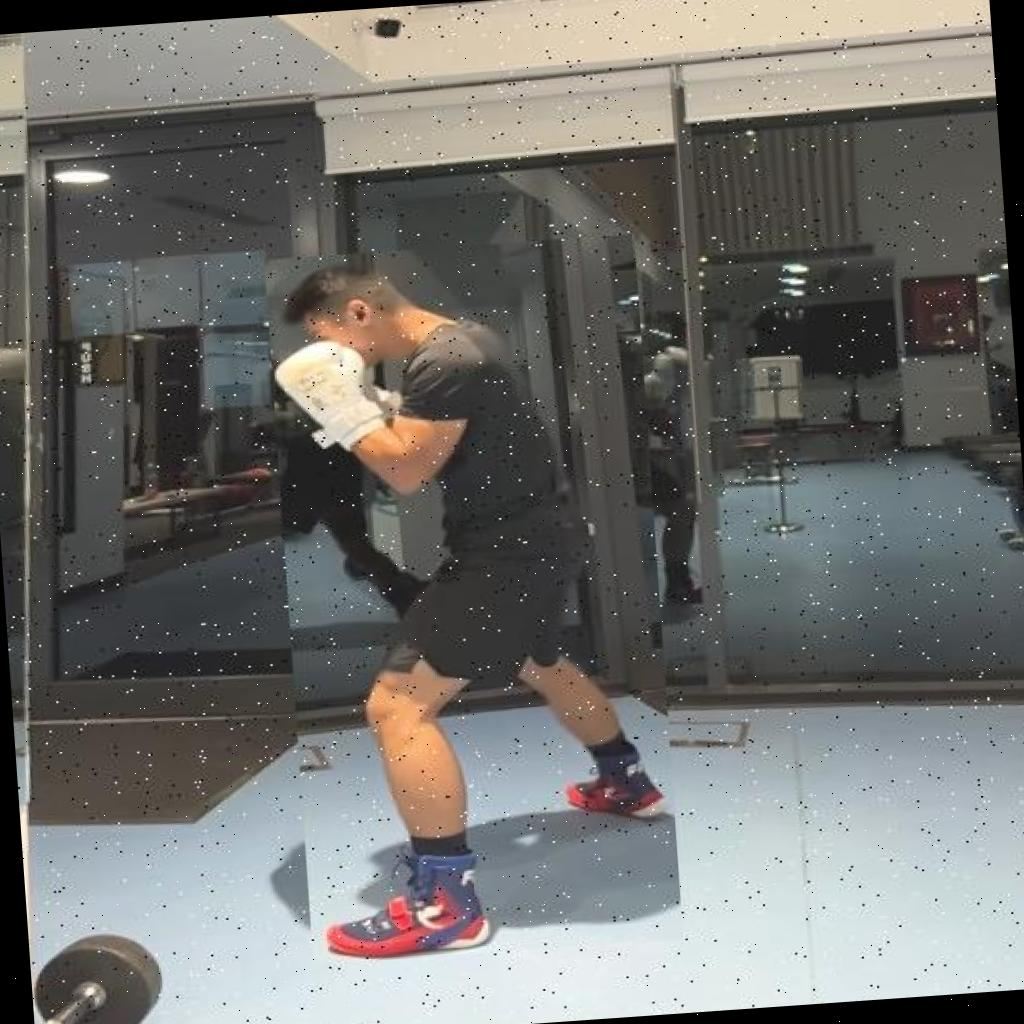no punch: (264, 234, 684, 965)
